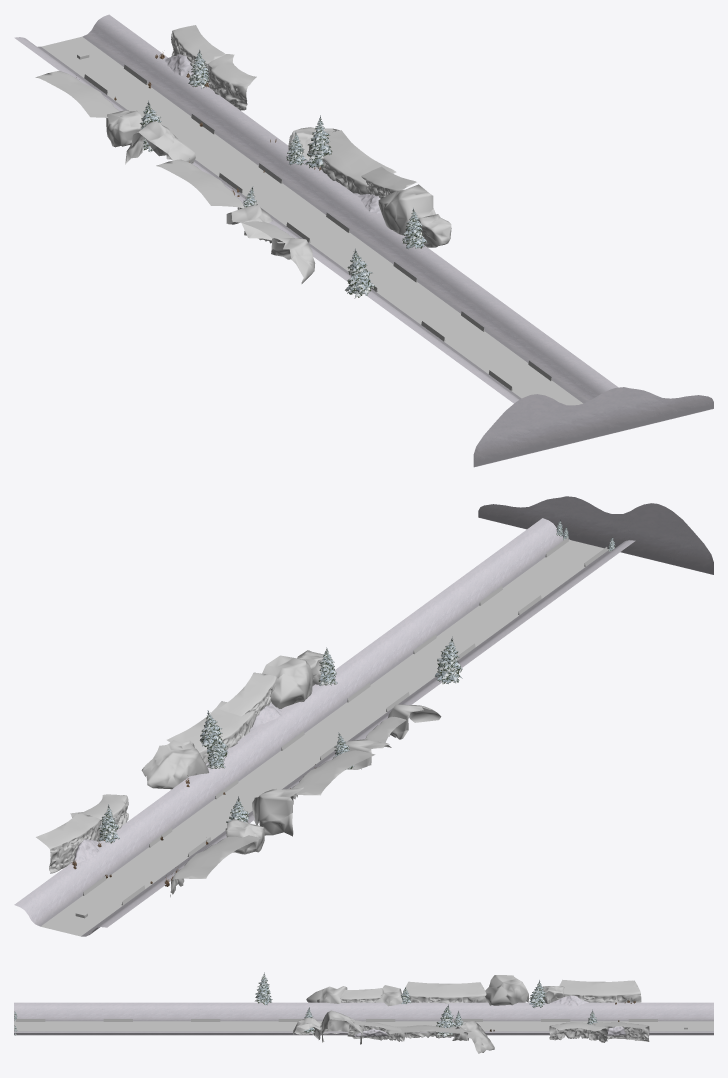
The model's file is Ski Project.fbx.
3 renders of one model, top to bottom at view 1: azimuth 30°, elevation 25°; view 2: azimuth 150°, elevation 25°; view 3: azimuth 270°, elevation 25°, orthographic. The views are drawn at different scales.
Parts seen in each view (by area): view 1: Snow_Road, Game_track, Rock_Medium_A_01, Vision, Rock_Medium_A_02, Banyan_Tree, Obstacle_A_02, Obstacle_A_01, Snow_Cover_A_01; view 2: Snow_Road, Game_track, Rock_Medium_A_01, Rock_Medium_A_02, Vision, Banyan_Tree, Obstacle_A_01, Obstacle_A_02, Snow_Cover_A_01; view 3: Snow_Road, Rock_Medium_A_01, Game_track, Rock_Medium_A_02, Banyan_Tree, Obstacle_A_01, Snow_Cover_A_01, Obstacle_A_02.
Boxes of the visible parts, x1,y1,x2,y2 form: Snow_Road: (14, 14, 618, 403); Game_track: (43, 37, 580, 405); Rock_Medium_A_01: (35, 25, 416, 243); Vision: (473, 387, 713, 467); Rock_Medium_A_02: (106, 110, 451, 283); Banyan_Tree: (140, 49, 427, 298); Obstacle_A_02: (41, 36, 582, 403); Obstacle_A_01: (84, 64, 552, 390); Snow_Cover_A_01: (119, 54, 381, 213); Snow_Road: (14, 518, 635, 936); Game_track: (42, 540, 603, 935); Rock_Medium_A_01: (36, 672, 406, 897); Rock_Medium_A_02: (141, 650, 441, 854); Vision: (478, 496, 713, 574); Banyan_Tree: (98, 520, 615, 843); Obstacle_A_01: (83, 537, 607, 905); Obstacle_A_02: (41, 540, 608, 936); Snow_Cover_A_01: (74, 702, 281, 863); Snow_Road: (14, 1002, 713, 1035); Rock_Medium_A_01: (340, 979, 649, 1042); Game_track: (14, 1022, 713, 1031); Rock_Medium_A_02: (293, 975, 564, 1053); Banyan_Tree: (14, 972, 597, 1037); Obstacle_A_01: (16, 1019, 657, 1021); Snow_Cover_A_01: (354, 995, 625, 1036); Obstacle_A_02: (14, 1021, 713, 1021).
Bounding box in the file's own units: 2573 × 665 × 10000.
